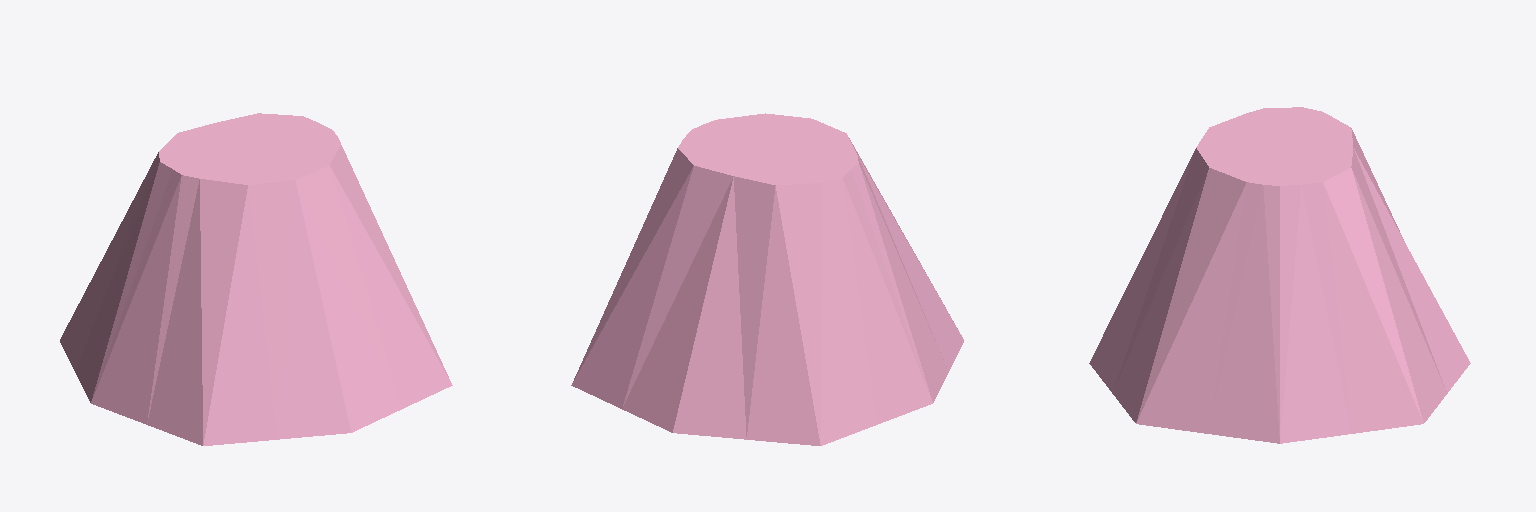
3 views of the same model, side by side, from view 1: azimuth 30°, elevation 25°; view 2: azimuth 150°, elevation 25°; view 3: azimuth 270°, elevation 25° (orthographic).
Parts seen in each view (by area): view 1: 立方体; view 2: 立方体; view 3: 立方体.
Boxes of the visible parts, x1=… form: 立方体: x1=60, y1=113, x2=452, y2=445; 立方体: x1=571, y1=113, x2=963, y2=445; 立方体: x1=1089, y1=107, x2=1470, y2=443.
Size of the model in its own units: 0.3128 by 0.1941 by 0.3128.
Materials: 1 (1 with a texture image).